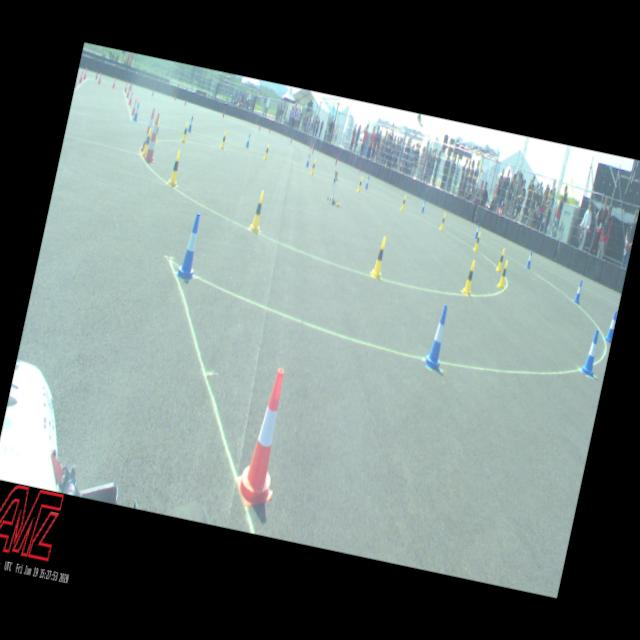blue_cone: (174, 212, 207, 282), (422, 303, 454, 372), (580, 328, 602, 377), (604, 310, 616, 342), (572, 279, 584, 304), (132, 102, 141, 122), (526, 248, 534, 268), (244, 132, 252, 148), (187, 116, 194, 132), (304, 152, 311, 168), (419, 198, 426, 214), (473, 222, 480, 238), (364, 176, 369, 188)
large_orange_cone: (142, 112, 164, 164), (139, 107, 156, 154)
orange_cone: (232, 365, 298, 511), (130, 96, 138, 115), (127, 90, 134, 105), (78, 69, 84, 83), (111, 76, 117, 90), (74, 73, 79, 89), (82, 67, 88, 80), (96, 71, 102, 84), (125, 85, 131, 98), (124, 80, 128, 92)
yellow_cone: (247, 189, 269, 233), (369, 235, 388, 278), (460, 258, 480, 297), (166, 148, 184, 188), (496, 259, 509, 289), (140, 126, 152, 158), (152, 118, 162, 144), (496, 248, 506, 272), (472, 230, 482, 252), (180, 121, 190, 142), (438, 211, 447, 231), (219, 130, 228, 149), (262, 142, 271, 160), (398, 194, 406, 211), (356, 176, 363, 193), (309, 158, 316, 174)
